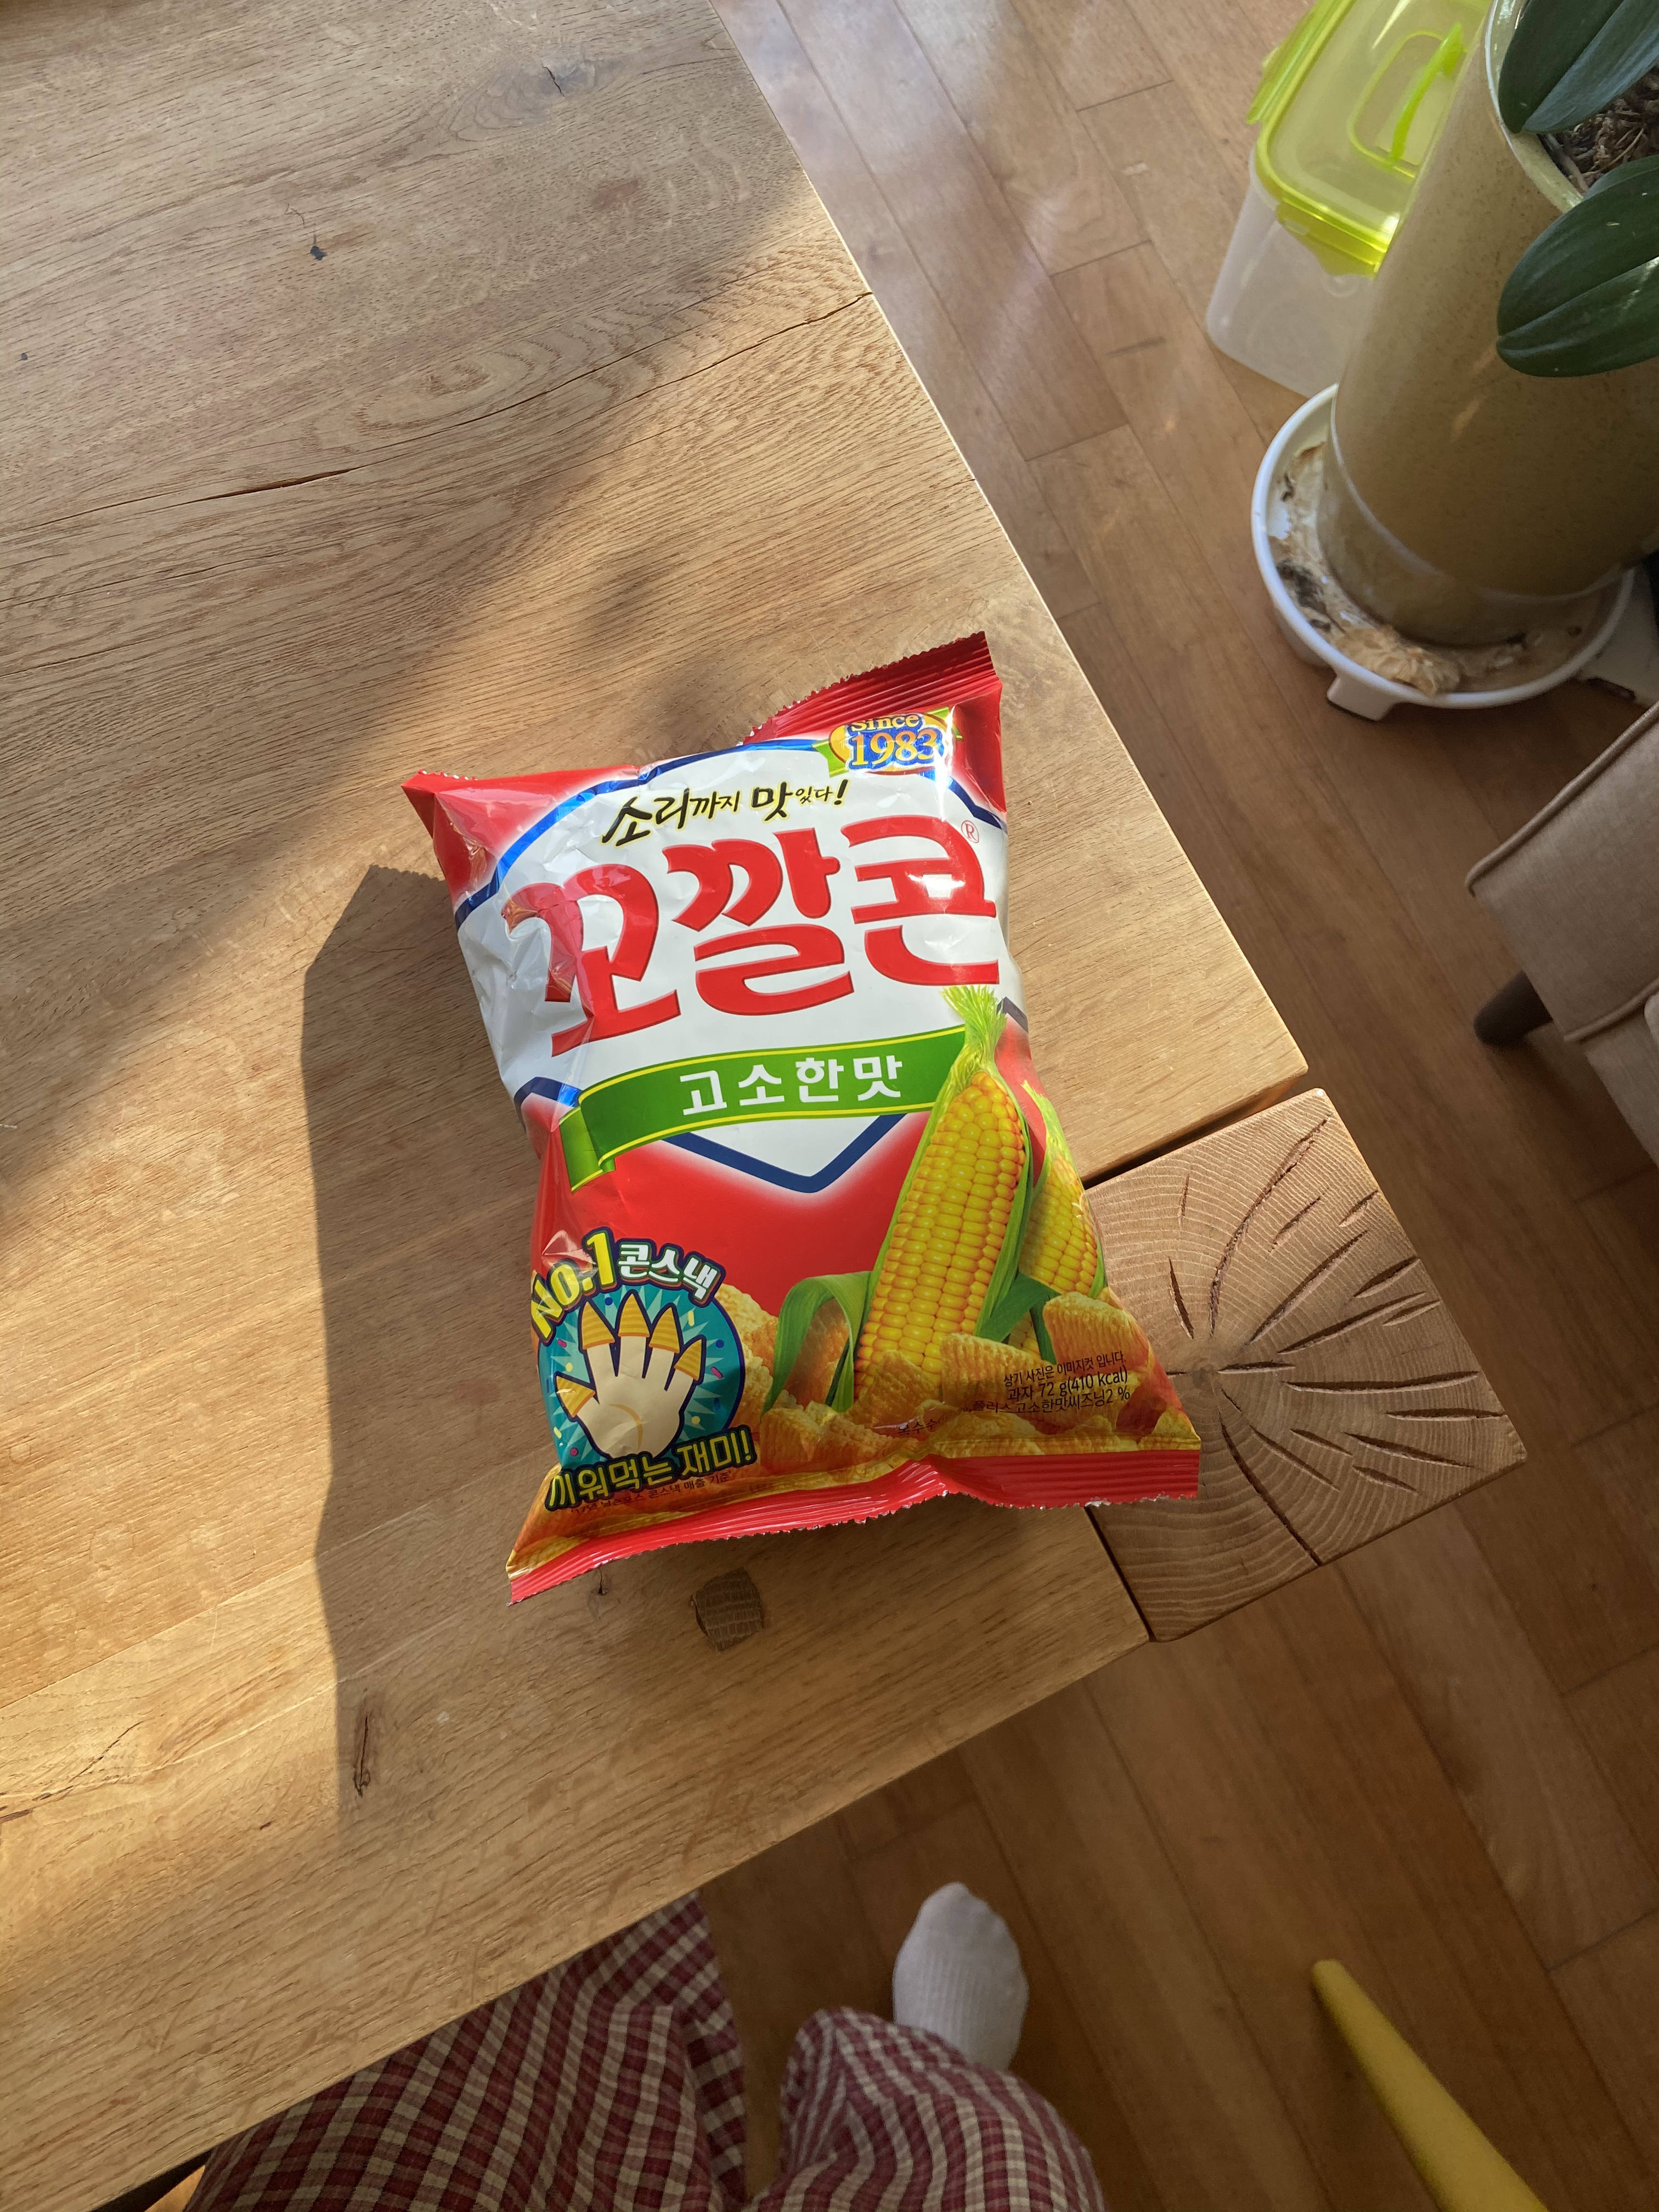ggoggalcon: (389, 613, 1244, 1646)
